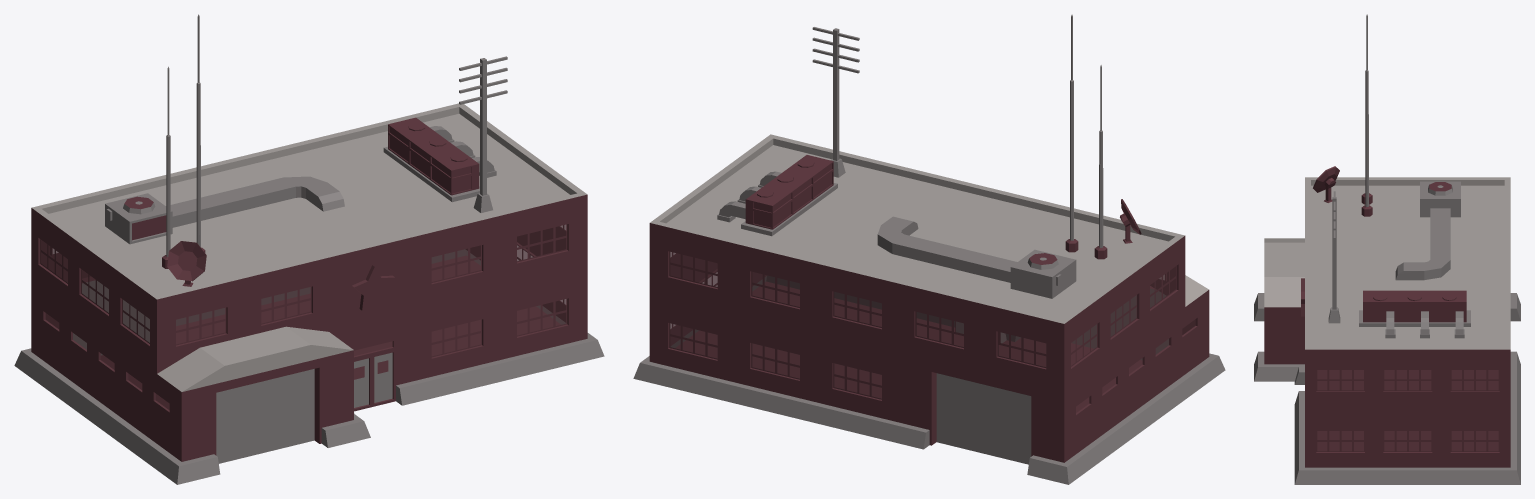
The model's file is military-headquarters.fbx.
3 renders of one model, left to right at view 1: azimuth 30°, elevation 25°; view 2: azimuth 150°, elevation 25°; view 3: azimuth 270°, elevation 25°, orthographic. The views are drawn at different scales.
Parts seen in each view (by area): view 1: military-headquarters; view 2: military-headquarters; view 3: military-headquarters.
Part boxes in pixels (x1=…): military-headquarters: x1=14, y1=14, x2=604, y2=484; military-headquarters: x1=633, y1=14, x2=1225, y2=484; military-headquarters: x1=1254, y1=14, x2=1520, y2=484.
Size of the model in its own units: 21 by 17.68 by 13.1.
